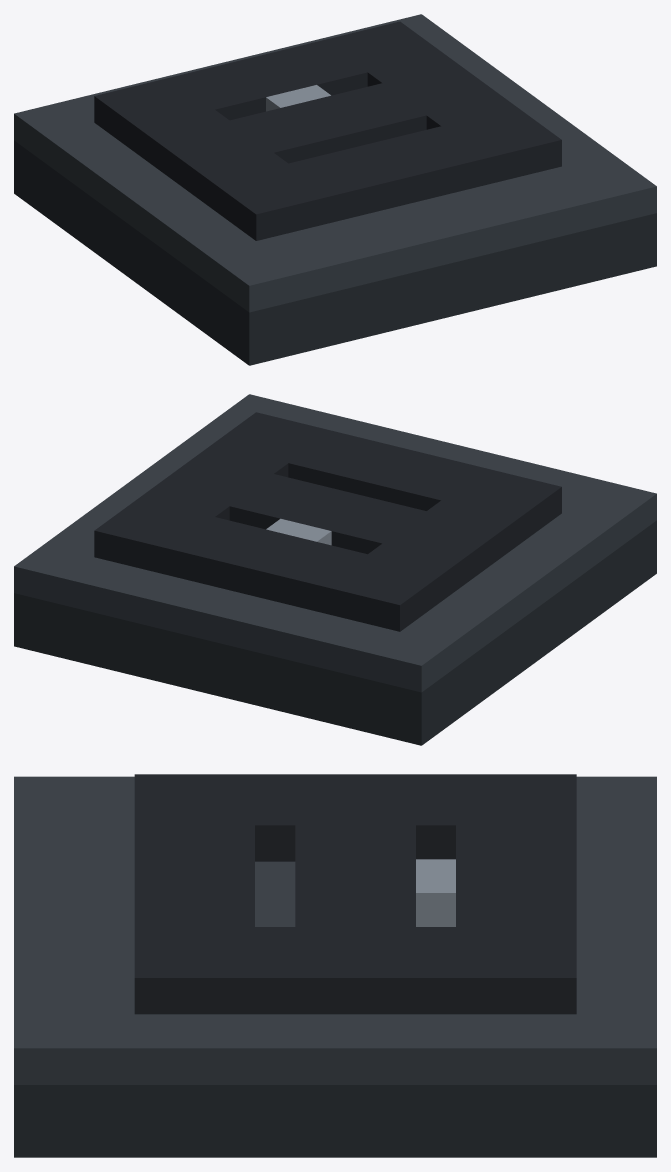
The model's file is tile_grate.glb.
3 views of the same model, one above another, from view 1: azimuth 30°, elevation 25°; view 2: azimuth 150°, elevation 25°; view 3: azimuth 270°, elevation 25° (orthographic). The views are drawn at different scales.
Parts seen in each view (by area): view 1: Bar mesh, Top mesh, Base mesh, Bolt mesh; view 2: Bar mesh, Top mesh, Base mesh, Bolt mesh; view 3: Bar mesh, Top mesh, Base mesh, Bolt mesh.
Part boxes in pixels (<box>): Bar mesh: <box>94,21,561,240</box>; Top mesh: <box>14,14,656,312</box>; Base mesh: <box>14,140,656,365</box>; Bolt mesh: <box>266,85,330,111</box>; Bar mesh: <box>94,412,561,631</box>; Top mesh: <box>14,394,656,692</box>; Base mesh: <box>14,520,656,745</box>; Bolt mesh: <box>266,518,331,545</box>; Bar mesh: <box>134,774,576,1014</box>; Top mesh: <box>14,776,656,1084</box>; Base mesh: <box>14,1085,656,1157</box>; Bolt mesh: <box>416,859,455,926</box>.
Bounding box in the file's own units: 16 × 4 × 16.
Materials: 1 (1 with a texture image).
